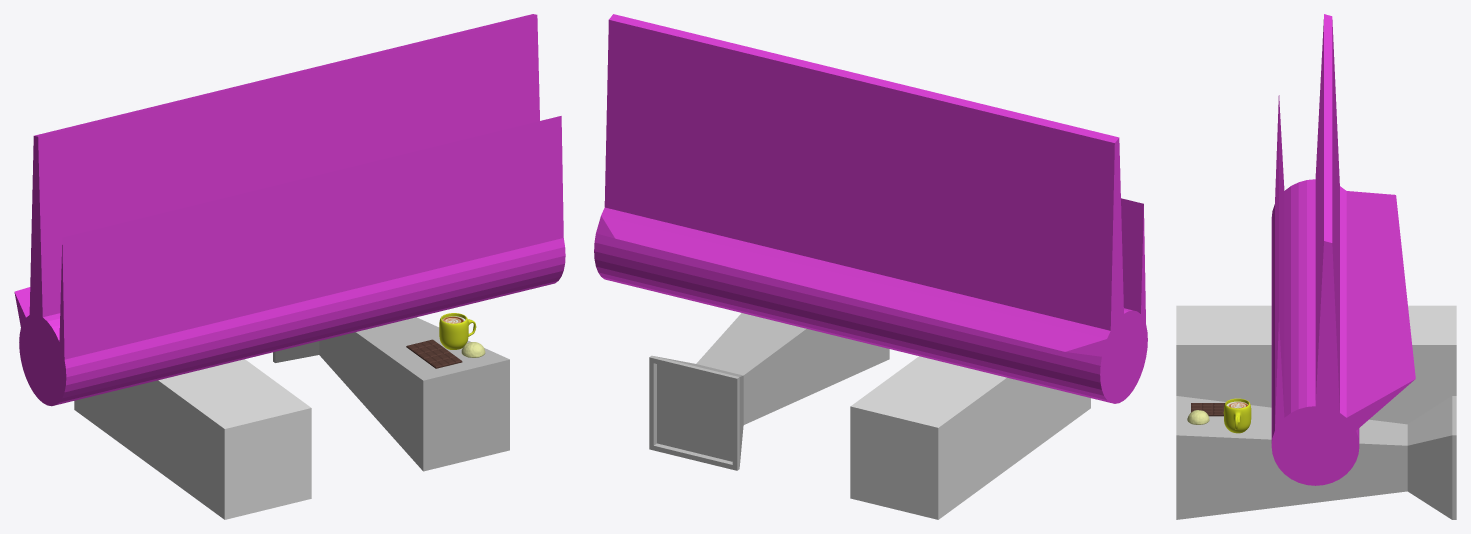
The model's file is practice.fbx.
3 renders of one model, left to right at view 1: azimuth 30°, elevation 25°; view 2: azimuth 150°, elevation 25°; view 3: azimuth 270°, elevation 25°, orthographic. The views are drawn at different scales.
Parts seen in each view (by area): view 1: Test, 큐브.001, 큐브, Mugcup, Chocolate; view 2: Test, 큐브.001, 큐브; view 3: Test, 큐브, 큐브.001, Mugcup, Chocolate.
Boxes of the visible parts, left/top/right/bottom form: Test: left=14, top=14, right=565, bottom=406; 큐브.001: left=74, top=359, right=311, bottom=519; 큐브: left=273, top=317, right=509, bottom=471; Mugcup: left=439, top=313, right=476, bottom=349; Chocolate: left=406, top=339, right=462, bottom=368; Test: left=594, top=14, right=1147, bottom=403; 큐브.001: left=850, top=356, right=1090, bottom=519; 큐브: left=649, top=313, right=889, bottom=470; Test: left=1271, top=14, right=1415, bottom=485; 큐브: left=1176, top=396, right=1456, bottom=519; 큐브.001: left=1176, top=305, right=1456, bottom=424; Mugcup: left=1223, top=398, right=1251, bottom=433; Chocolate: left=1191, top=403, right=1224, bottom=416.
Size of the model in its own units: 1150 by 774 by 600.
